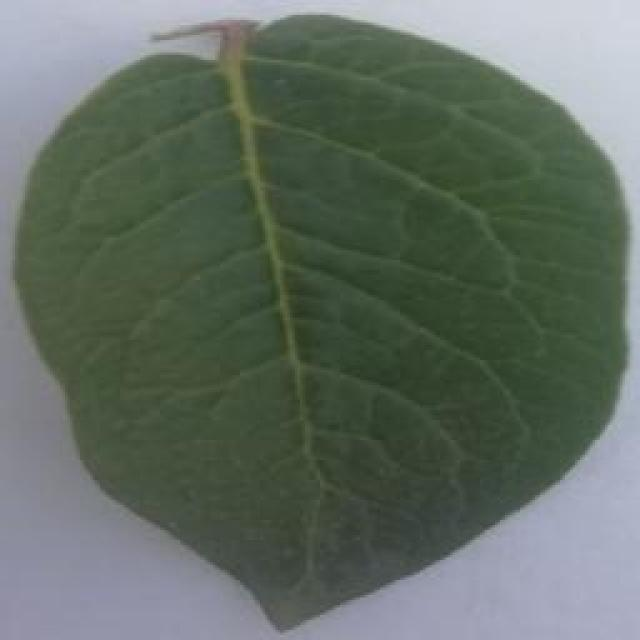Potato_Healthy: (12, 13, 620, 634)
